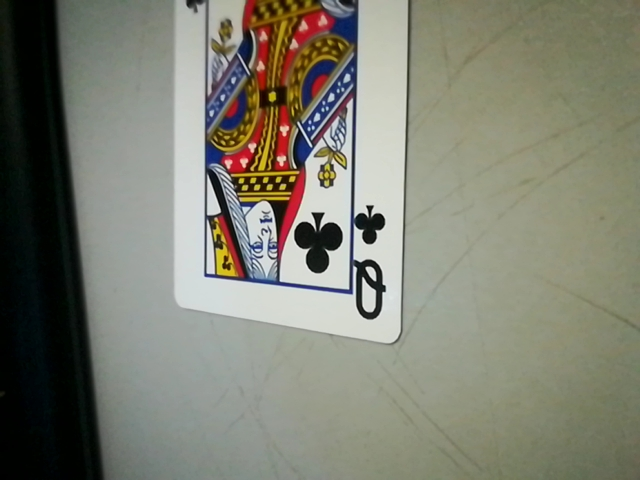mh q: (346, 195, 396, 334)
